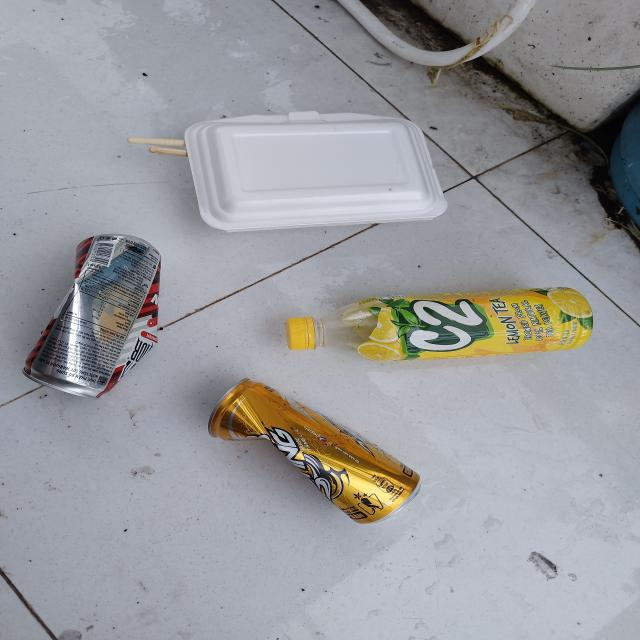bottle: (285, 287, 594, 362)
can: (207, 376, 424, 526), (20, 235, 163, 402)
foam box: (187, 110, 449, 232)
